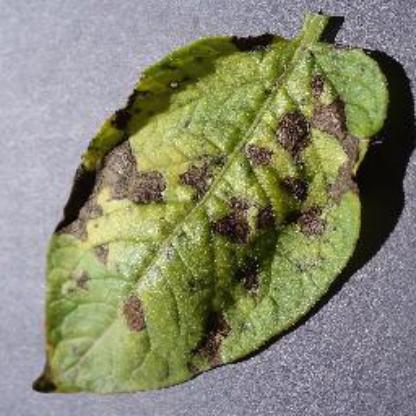Early-Blight: (26, 6, 406, 402)
